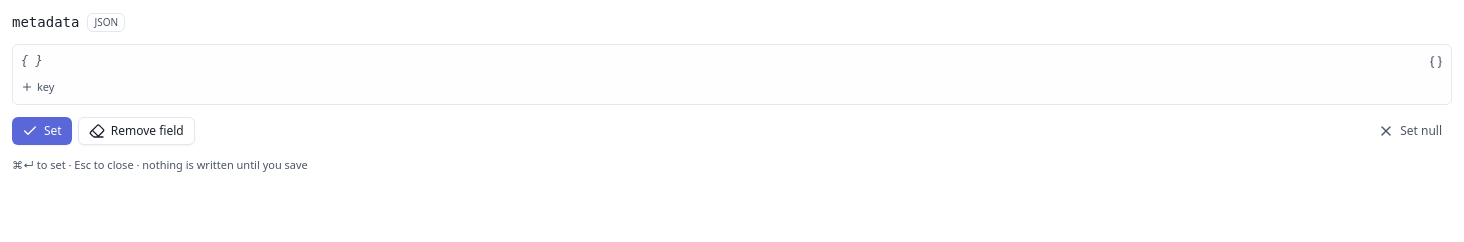
Test: CellEditor › switches a JSON value to a JSON editor named after the field
What coordinates should you click on to do the following:
click the button named "Edit metadata as JSON"
I would click on:
 (1436, 62)
Its box is [1427,53,1445,71].
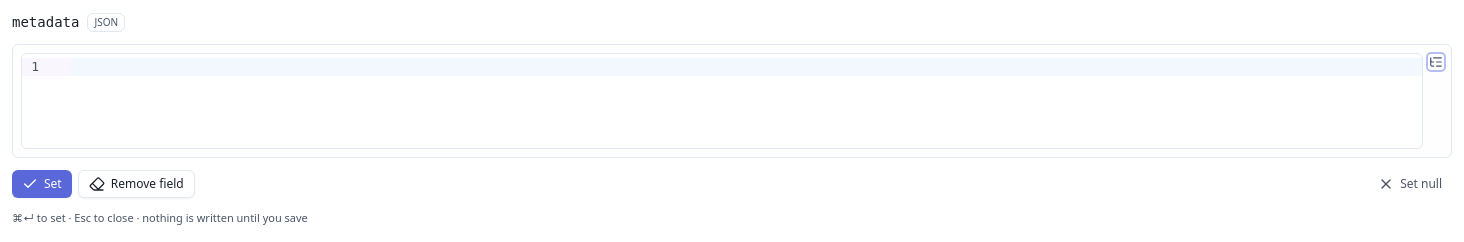
expect the field named "metadata" is shown: met, box [70,58,1422,76]
